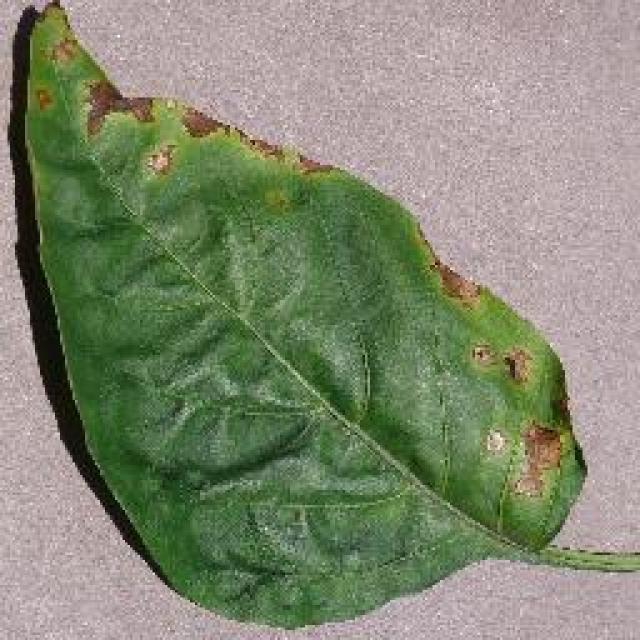Chilli_Bacterial_Spot: (5, 0, 635, 632), (425, 252, 587, 552), (460, 335, 570, 503), (507, 418, 565, 502), (78, 75, 122, 140), (428, 258, 482, 310), (497, 345, 535, 390), (177, 105, 225, 140), (140, 140, 178, 180), (255, 182, 295, 218), (45, 32, 80, 70), (478, 425, 510, 460), (465, 340, 497, 372), (30, 83, 55, 115), (30, 0, 68, 18)
